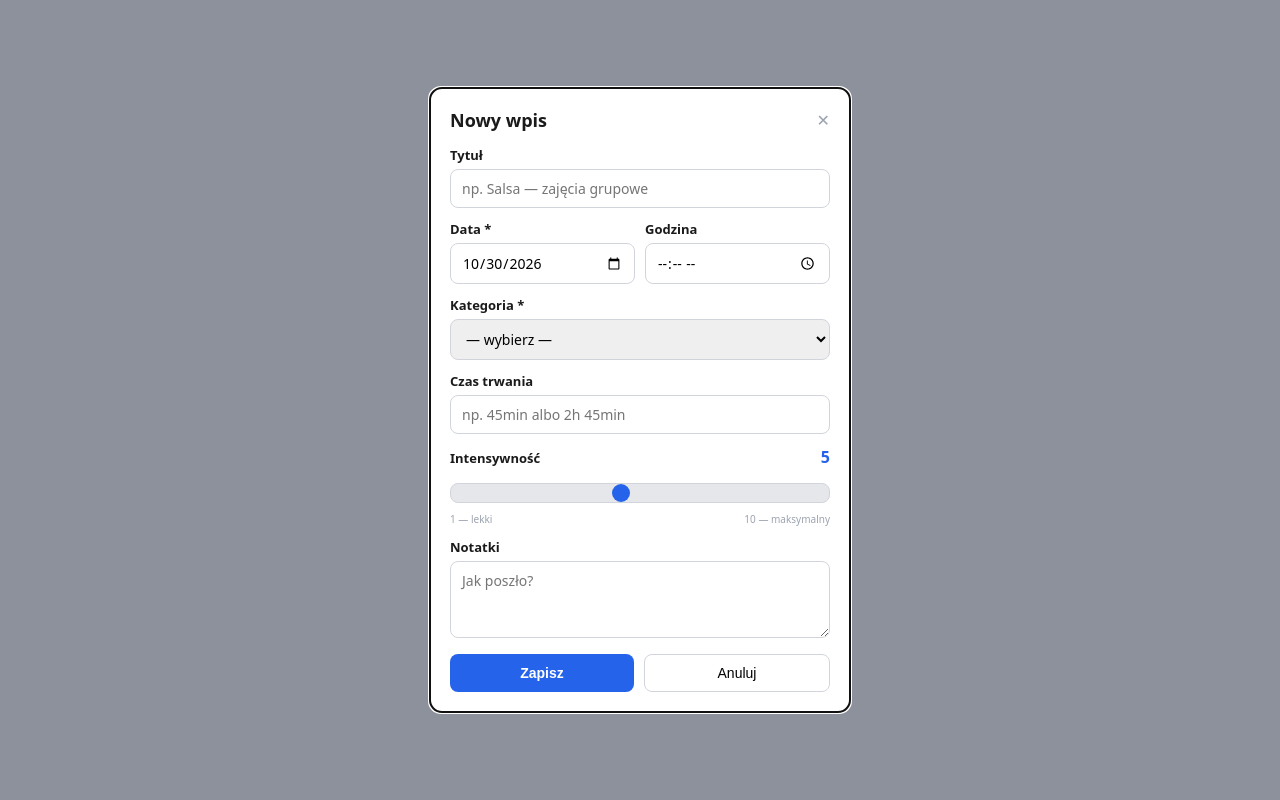
Test case: WorkoutLogForm › wymaga wyboru kategorii
Click the button "Zapisz". click: {"x": 542, "y": 673}
box: [450, 654, 634, 692]
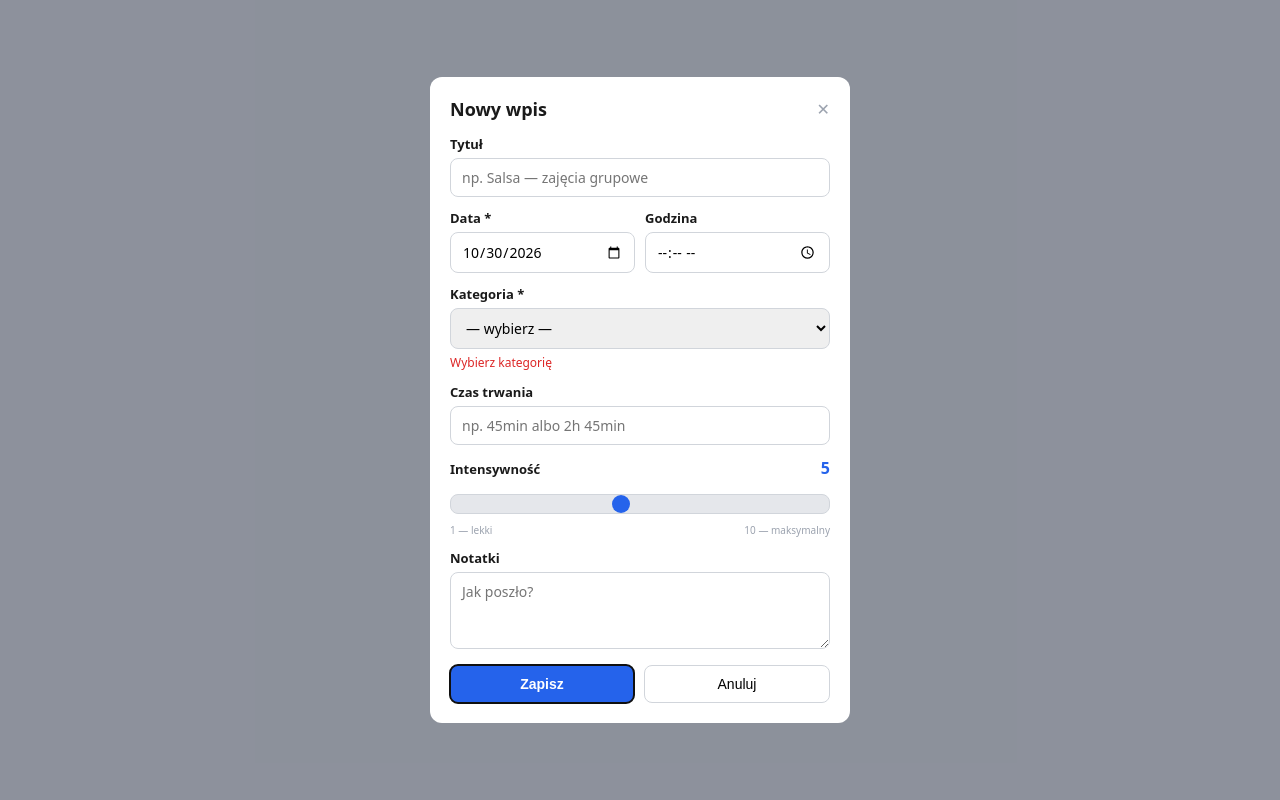
Now the text "Wybierz kategorię" is shown, box [450, 354, 552, 371]
